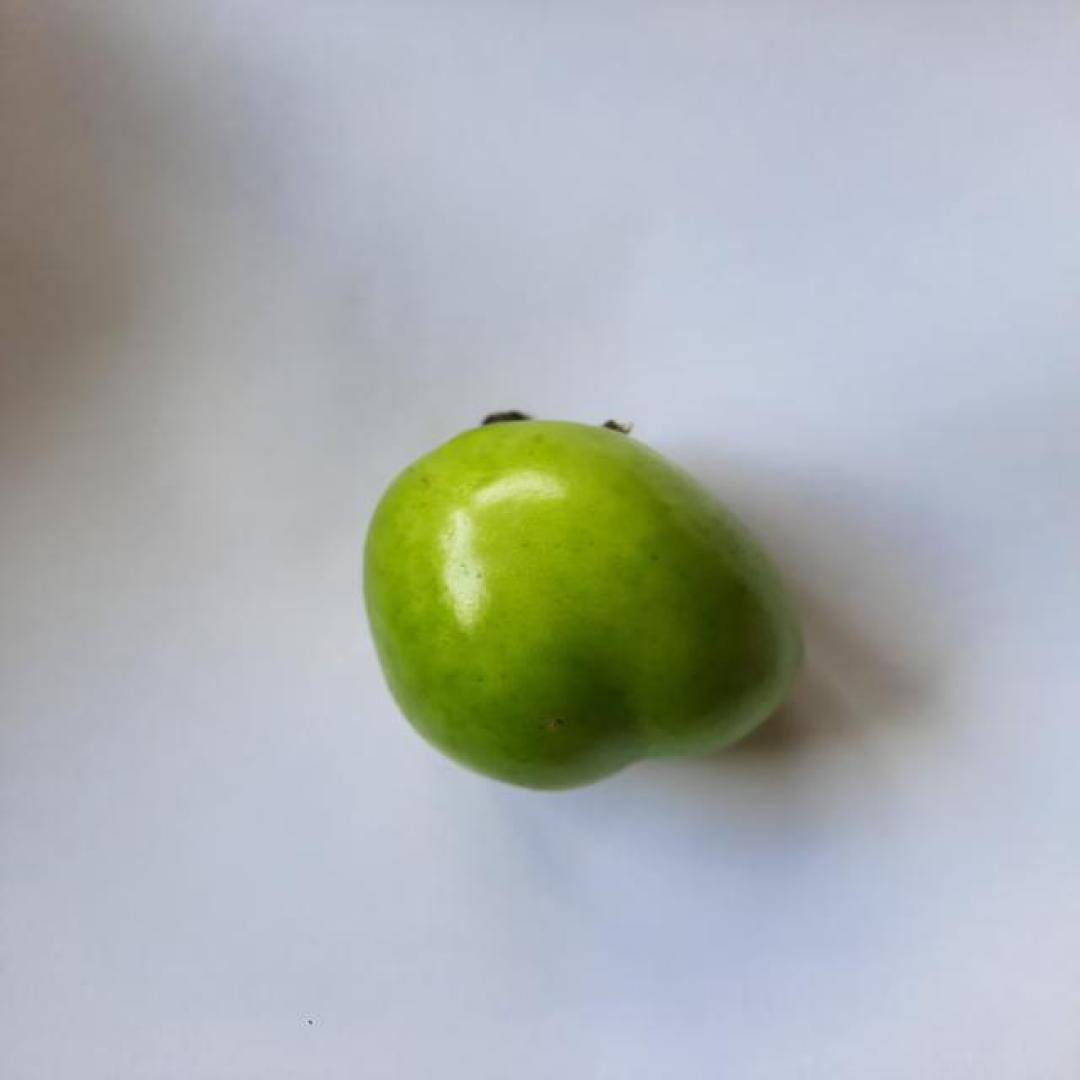mentah: (359, 420, 805, 793)
